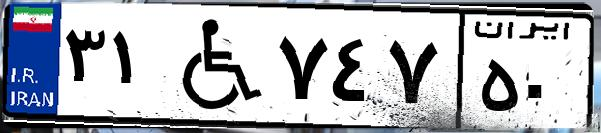0: (525, 38, 570, 115)
1: (110, 28, 158, 98)
3: (57, 26, 110, 100)
4: (330, 28, 385, 110)
5: (475, 38, 525, 113)
7: (270, 28, 330, 110), (385, 28, 445, 110)
ژ (معلولین و جانبازان): (158, 12, 270, 120)
